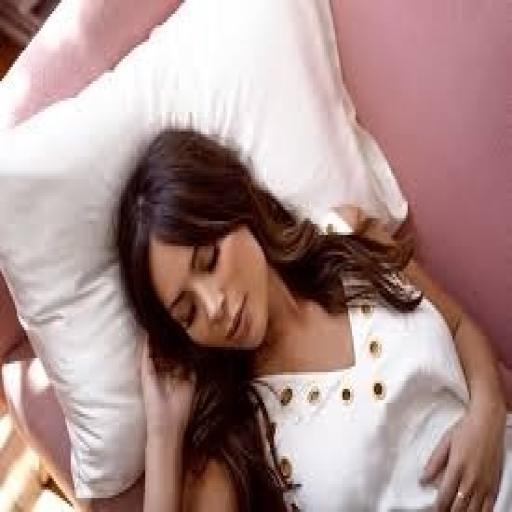sleeping: (112, 123, 508, 509)
